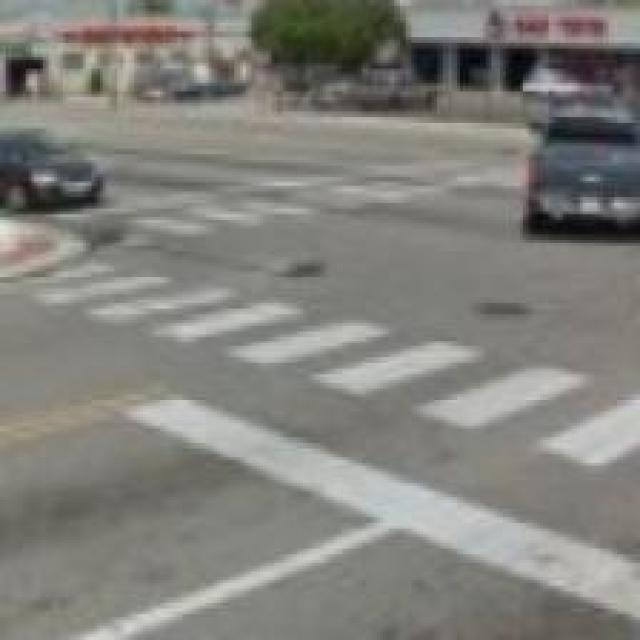zebra: (21, 244, 640, 501)
